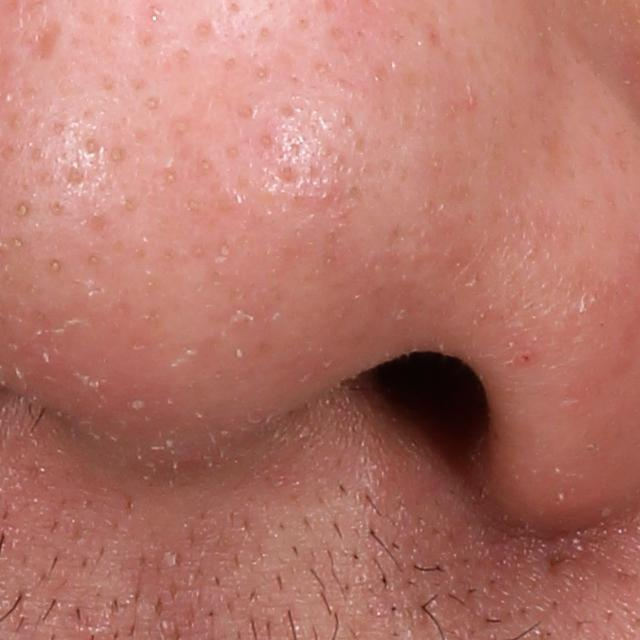atrophic_scar: (15, 1, 62, 64)
comedo: (8, 197, 36, 223)
